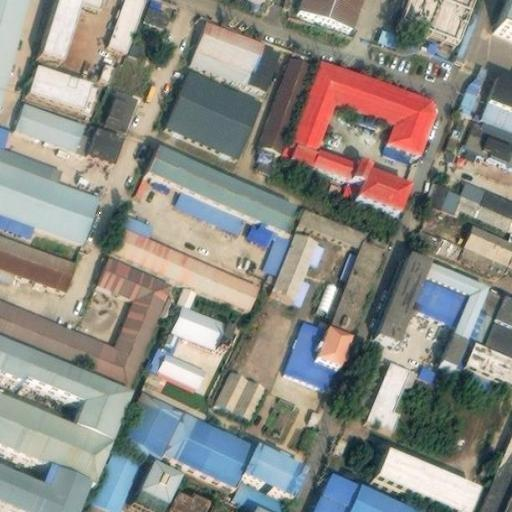building: (0, 248, 170, 376), (287, 54, 442, 180), (0, 322, 135, 429), (121, 385, 254, 481), (110, 222, 258, 306), (149, 146, 295, 229), (169, 65, 262, 151), (424, 254, 492, 359), (316, 232, 388, 326), (379, 439, 481, 505), (190, 16, 281, 84), (257, 50, 312, 157), (0, 454, 95, 512), (372, 244, 430, 336), (314, 469, 431, 512), (15, 95, 97, 147), (429, 176, 512, 227), (284, 307, 339, 382), (273, 226, 326, 298), (24, 65, 98, 116), (367, 355, 420, 426), (108, 0, 173, 56), (242, 434, 308, 486), (0, 123, 66, 173), (174, 185, 245, 230), (296, 200, 368, 244), (95, 444, 143, 505), (458, 110, 512, 164), (411, 269, 467, 320), (135, 452, 185, 507), (214, 364, 267, 415), (359, 156, 414, 205), (225, 472, 290, 512), (170, 297, 225, 343), (470, 279, 505, 337), (150, 343, 204, 380), (463, 219, 512, 259), (313, 315, 354, 362), (42, 0, 79, 52), (103, 81, 138, 129), (166, 478, 214, 512), (88, 120, 124, 157), (262, 231, 292, 274), (120, 207, 158, 235), (241, 219, 273, 248), (128, 171, 152, 201), (205, 497, 245, 512), (87, 494, 109, 512)
